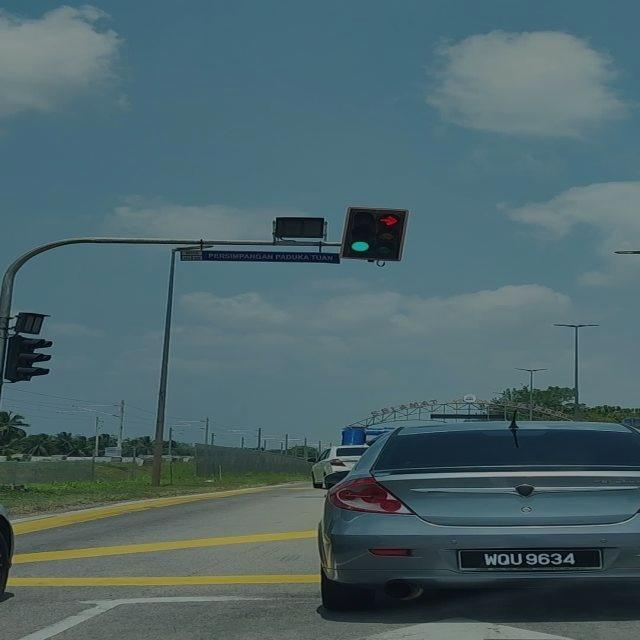Green: (341, 207, 373, 258)
Red: (369, 210, 406, 260)
